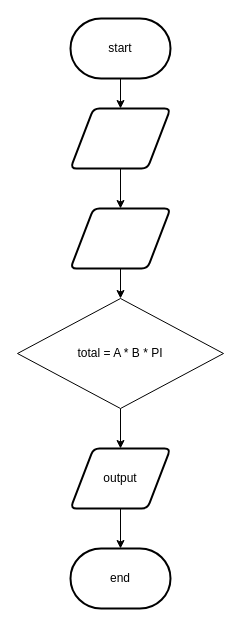
This 241x626 diagram has some shape labels left out. The centre of each missing label's shape, as x and y in pixels:
input axis A: the point at 120,138
input axis B: the point at 120,238
